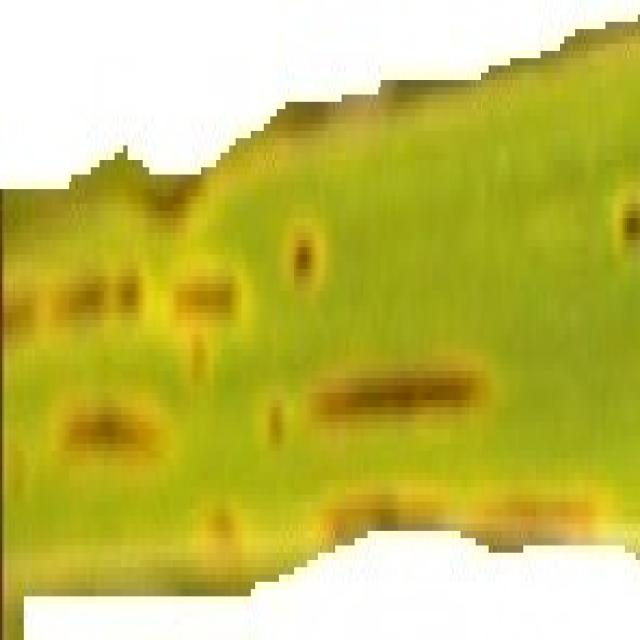Unhealthy: (45, 374, 176, 484), (305, 354, 494, 427), (47, 257, 152, 340), (324, 483, 448, 546), (464, 499, 600, 552), (164, 264, 249, 331), (0, 262, 37, 350), (286, 221, 325, 299), (201, 488, 238, 560), (614, 181, 640, 260), (262, 388, 288, 455)
